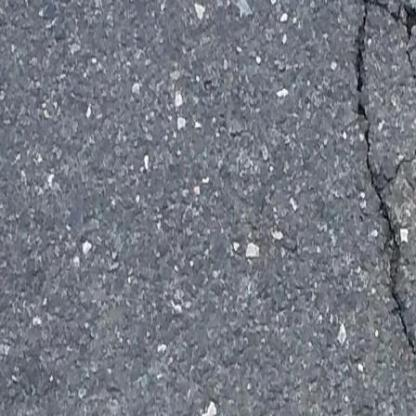Cracks: (331, 0, 416, 363)
